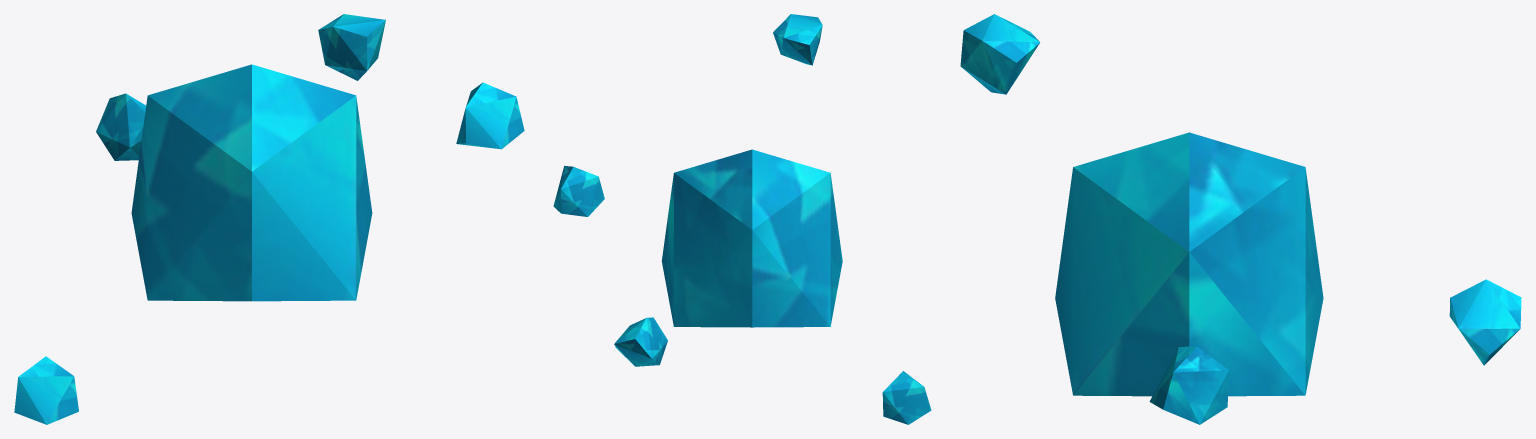
Rendered from Gem_S_Final.FBX.
3 views of the same model, side by side, from view 1: azimuth 30°, elevation 25°; view 2: azimuth 150°, elevation 25°; view 3: azimuth 270°, elevation 25° (orthographic). The views are drawn at different scales.
Parts seen in each view (by area): view 1: Gem_S; view 2: Gem_S; view 3: Gem_S.
Part boxes in pixels (bbox=[...]): Gem_S: bbox=[14, 14, 524, 424]; Gem_S: bbox=[553, 14, 931, 424]; Gem_S: bbox=[960, 14, 1521, 424].
Bounding box in the file's own units: 17.92 × 13.97 × 15.66.
